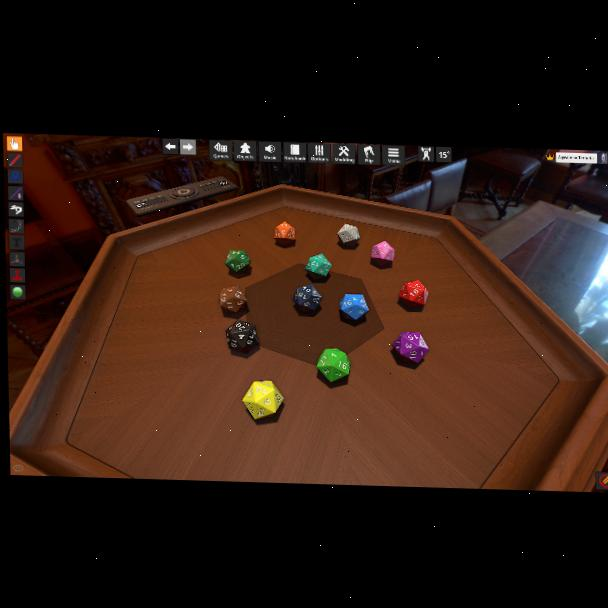d20: (241, 379, 286, 420), (316, 348, 350, 382), (225, 319, 259, 353), (392, 331, 427, 364), (397, 280, 427, 308), (293, 285, 322, 313), (338, 293, 367, 321), (219, 286, 246, 314), (304, 254, 329, 279), (225, 250, 250, 274), (373, 240, 396, 265), (274, 221, 296, 244), (337, 224, 359, 244)
